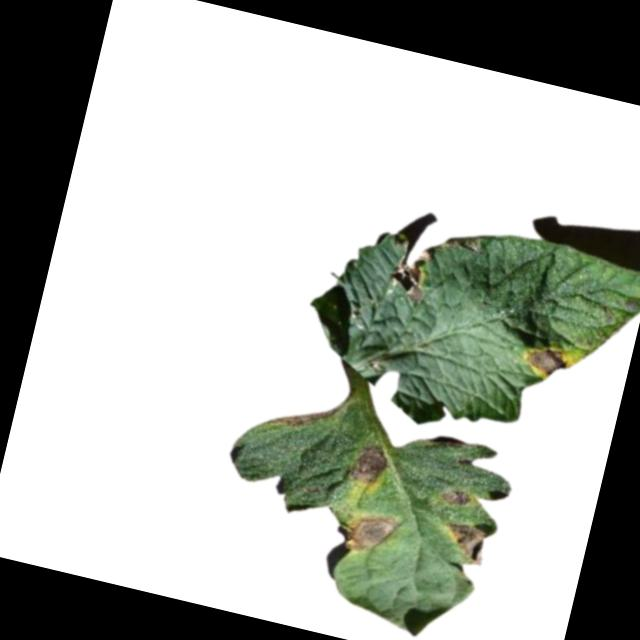Early_blight: (336, 505, 400, 561), (267, 390, 338, 436), (389, 238, 437, 304), (439, 514, 497, 566), (346, 439, 393, 488), (520, 337, 569, 383), (438, 484, 474, 511)
